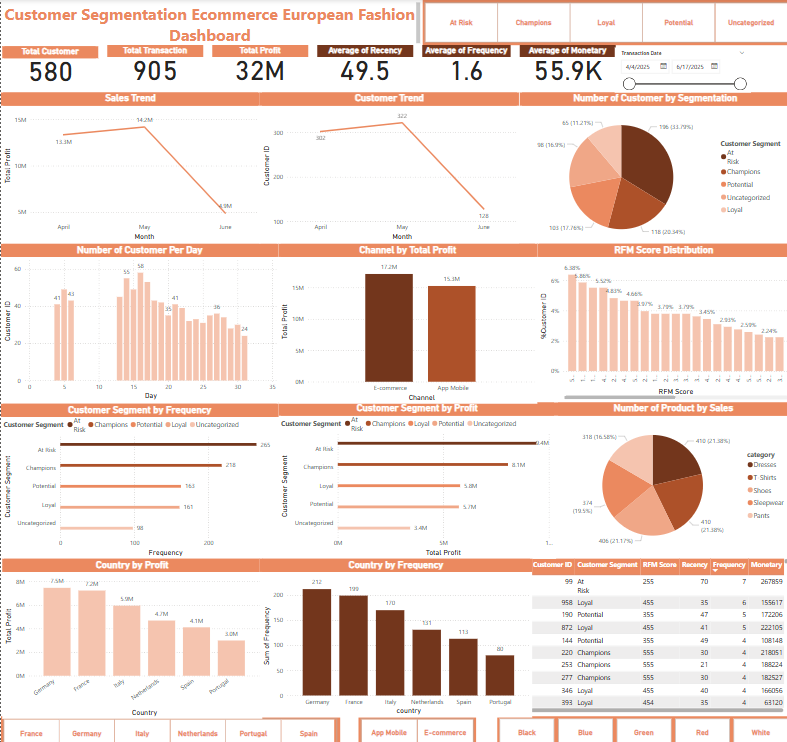

The dashboard page shown, as its layout file describes it:
{"tool":"powerbi","page":{"name":"Page 1","canvas":[1580,1500],"ordinal":0},"visuals":[{"type":"pieChart","title":"Number of Customer by Segmentation","fields":{"Category":["RFMTable.Customer Segment"],"Y":["Count(RFMTable.customer_id)"]},"box":[1037.5,185,542.5,317.5],"z":0},{"type":"tableEx","fields":{"Values":["RFMTable.customer_id","RFMTable.Customer Segment","RFMTable.RFM Score","RFMTable.Recency","RFMTable.Frequency","RFMTable.Monetary"]},"box":[1052.5,1112.5,527.5,317.5],"z":1000},{"type":"clusteredColumnChart","title":"RFM Score Distribution","fields":{"Category":["RFMTable.RFM Score"],"Y":["Sum(RFMTable.customer_id)"]},"box":[1073.3,488.3,506.7,316.7],"z":2000},{"type":"clusteredBarChart","title":"Customer Segment by Profit","fields":{"Category":["RFMTable.Customer Segment"],"Y":["Sum(dataset_fashion_store_sales.total_amount)"],"Series":["RFMTable.Customer Segment"]},"box":[555,805,555,312.5],"z":3000},{"type":"clusteredColumnChart","title":"Number of Customer Per Day","fields":{"Y":["Count(dataset_fashion_store_sales.customer_id)"],"Category":["dataset_fashion_store_sales.sale_date.Variation.Date Hierarchy.Day"]},"box":[0,487.5,555,317.5],"z":4000},{"type":"pieChart","title":"Number of Product by Sales","fields":{"Y":["Count(dataset_fashion_store_salesitems.sale_id)"],"Category":["dataset_fashion_store_products.category"]},"box":[1110,805,470,310],"z":5000},{"type":"advancedSlicerVisual","fields":{"Values":["dataset_fashion_store_sales.country"]},"box":[0,1431.7,678.3,68.3],"z":6000},{"type":"advancedSlicerVisual","fields":{"Values":["RFMTable.Customer Segment"]},"box":[842.5,0,737.5,90],"z":7000},{"type":"textbox","box":[0,0,843.3,93.3],"z":8000},{"type":"advancedSlicerVisual","fields":{"Values":["dataset_fashion_store_sales.channel"]},"box":[715,1432.5,235,67.5],"z":9000},{"type":"advancedSlicerVisual","fields":{"Values":["dataset_fashion_store_products.color"]},"box":[992.5,1432.5,587.5,67.5],"z":10000},{"type":"card","title":"Total Customer","fields":{"Values":["Count(dataset_fashion_store_sales.customer_id)"]},"box":[1.7,93.3,191.7,91.7],"z":11000},{"type":"card","title":"Total Profit","fields":{"Values":["Sum(dataset_fashion_store_sales.total_amount)"]},"box":[421.7,90,191.7,91.7],"z":12000},{"type":"card","title":"Total Transaction","fields":{"Values":["Count(dataset_fashion_store_sales.sale_id)"]},"box":[213.3,90,191.7,91.7],"z":13000},{"type":"card","title":"Average of Recency","fields":{"Values":["Avg(RFMTable.Recency)"]},"box":[631.7,90,191.7,91.7],"z":14000},{"type":"card","title":"Average of Frequency","fields":{"Values":["Avg(RFMTable.Frequency)"]},"box":[843.3,90,176.7,91.7],"z":15000},{"type":"card","title":"Average of Monetary","fields":{"Values":["Avg(RFMTable.Monetary)"]},"box":[1036.7,90,191.7,91.7],"z":16000},{"type":"slicer","fields":{"Values":["dataset_fashion_store_sales.sale_date"]},"box":[1228.3,95,271.7,90],"z":17000},{"type":"clusteredBarChart","title":"Customer Segment by Frequency","fields":{"Series":["RFMTable.Customer Segment"],"Category":["RFMTable.Customer Segment"],"Y":["Sum(RFMTable.Frequency)"]},"box":[0,807.5,555,310],"z":18000},{"type":"clusteredColumnChart","title":"Channel by Total Profit","fields":{"Y":["Sum(dataset_fashion_store_sales.total_amount)"],"Category":["dataset_fashion_store_salesitems.channel"]},"box":[555,487.5,517.5,320],"z":19000},{"type":"clusteredColumnChart","title":"Country by Profit","fields":{"Category":["dataset_fashion_store_sales.country"],"Y":["Sum(dataset_fashion_store_sales.total_amount)"]},"box":[1.7,1118.3,520,313.3],"z":20000},{"type":"lineChart","title":"Sales Trend","fields":{"Y":["Sum(dataset_fashion_store_sales.total_amount)"],"Category":["dataset_fashion_store_sales.sale_date.Variation.Date Hierarchy.Month"]},"box":[0,185,518.3,301.7],"z":21000},{"type":"lineChart","title":"Customer Trend","fields":{"Category":["dataset_fashion_store_sales.sale_date.Variation.Date Hierarchy.Month"],"Y":["Count(dataset_fashion_store_sales.customer_id)"]},"box":[518.3,185,518.3,301.7],"z":22000},{"type":"clusteredColumnChart","title":"Country by Frequency","fields":{"Y":["Sum(RFMTable.Frequency)"],"Category":["dataset_fashion_store_sales.country"]},"box":[521.7,1118.3,545,313.3],"z":23000}]}

Visuals, with their boxes in screenshot pixels (x1, y1, x2, y2), scaled from the page's 1580x1500 canvas onto the 787x742 screenshot:
"Number of Customer by Segmentation" pieChart: bbox=[517, 92, 786, 249]
tableEx - RFMTable.customer_id x RFMTable.Customer Segment: bbox=[524, 550, 786, 707]
"RFM Score Distribution" clusteredColumnChart: bbox=[535, 242, 786, 398]
"Customer Segment by Profit" clusteredBarChart: bbox=[276, 398, 553, 553]
"Number of Customer Per Day" clusteredColumnChart: bbox=[0, 241, 276, 398]
"Number of Product by Sales" pieChart: bbox=[553, 398, 786, 552]
advancedSlicerVisual - dataset_fashion_store_sales.country: bbox=[0, 708, 338, 741]
advancedSlicerVisual - RFMTable.Customer Segment: bbox=[420, 0, 786, 45]
textbox: bbox=[0, 0, 420, 46]
advancedSlicerVisual - dataset_fashion_store_sales.channel: bbox=[356, 709, 473, 741]
advancedSlicerVisual - dataset_fashion_store_products.color: bbox=[494, 709, 786, 741]
"Total Customer" card: bbox=[1, 46, 96, 92]
"Total Profit" card: bbox=[210, 45, 306, 90]
"Total Transaction" card: bbox=[106, 45, 202, 90]
"Average of Recency" card: bbox=[315, 45, 410, 90]
"Average of Frequency" card: bbox=[420, 45, 508, 90]
"Average of Monetary" card: bbox=[516, 45, 612, 90]
slicer - dataset_fashion_store_sales.sale_date: bbox=[612, 47, 747, 92]
"Customer Segment by Frequency" clusteredBarChart: bbox=[0, 399, 276, 553]
"Channel by Total Profit" clusteredColumnChart: bbox=[276, 241, 534, 399]
"Country by Profit" clusteredColumnChart: bbox=[1, 553, 260, 708]
"Sales Trend" lineChart: bbox=[0, 92, 258, 241]
"Customer Trend" lineChart: bbox=[258, 92, 516, 241]
"Country by Frequency" clusteredColumnChart: bbox=[260, 553, 531, 708]
